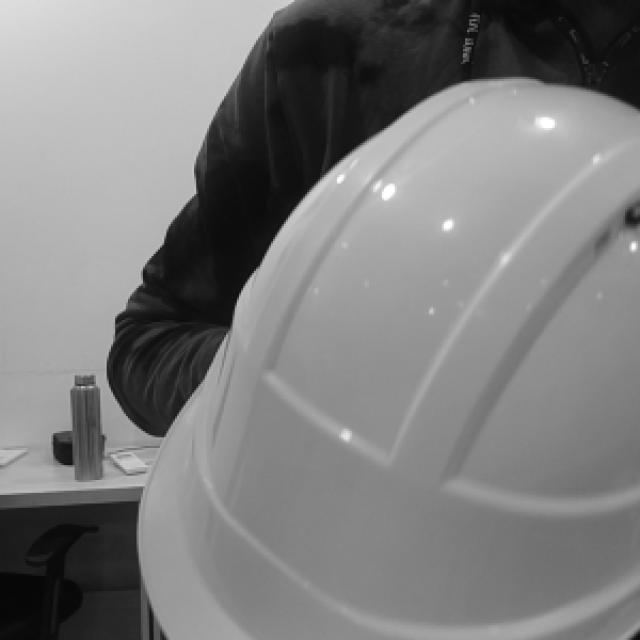safety_helmet: (136, 77, 640, 640)
